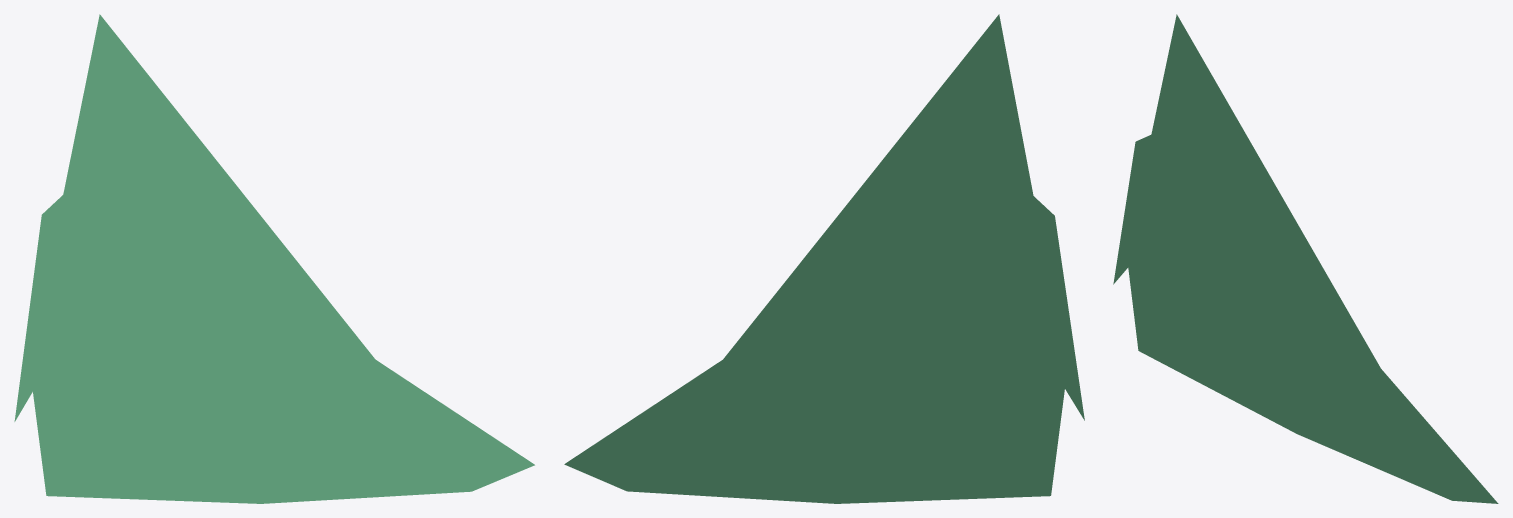
The picture shows the model from 3 angles, left to right: view 1: azimuth 30°, elevation 25°; view 2: azimuth 150°, elevation 25°; view 3: azimuth 330°, elevation 25°; orthographic projection. The views are drawn at different scales.
Parts seen in each view (by area): view 1: Origami_Model_16; view 2: Origami_Model_16; view 3: Origami_Model_16.
Part boxes in pixels (x1,y1,x2,y2): Origami_Model_16: [14, 14, 534, 503]; Origami_Model_16: [564, 14, 1084, 503]; Origami_Model_16: [1113, 14, 1498, 503].
Bounding box in the file's own units: 0.8614 × 0.898 × 0.004.
